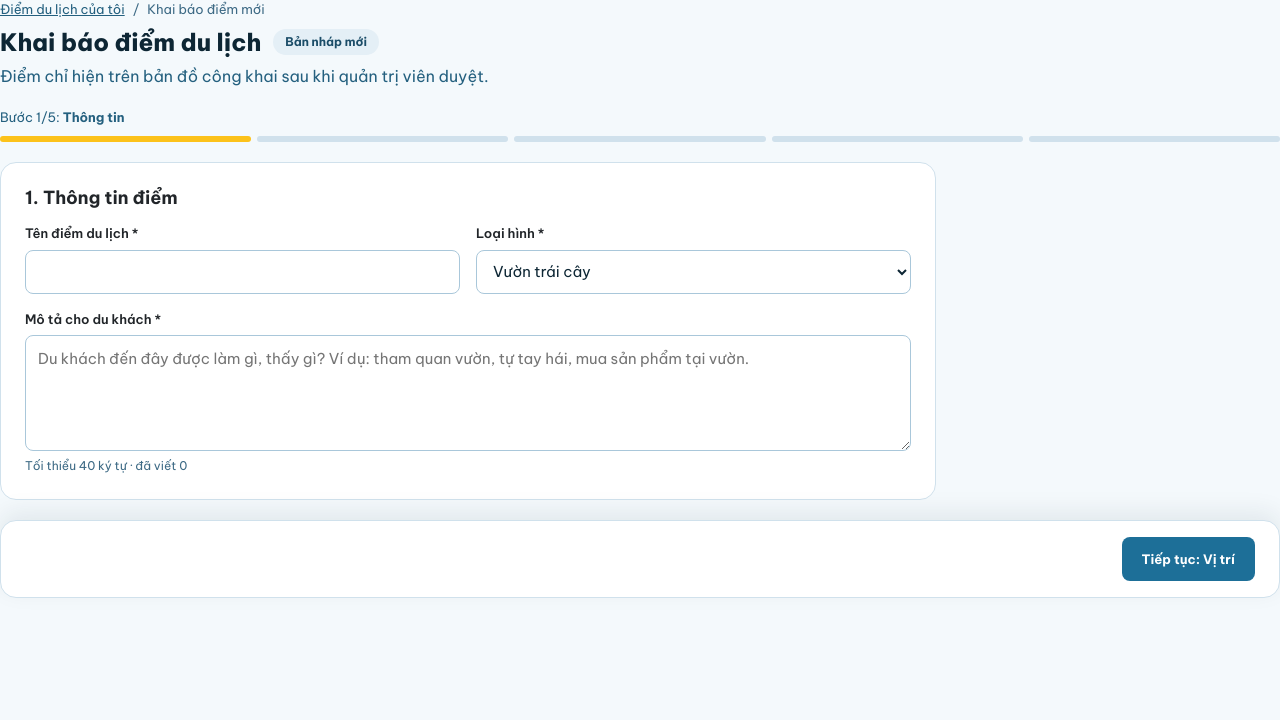
Test: SubjectLocationEditorView › wizard buoc 1: ten trong thi bao loi, danh dau o ten va khong sang buoc 2; co ten thi Tiep tuc mot lan sang buoc 2 (C14)
Click the button "Tiếp tục: Vị trí" at coordinates (1188, 559), box 1122,537 -> 1255,581
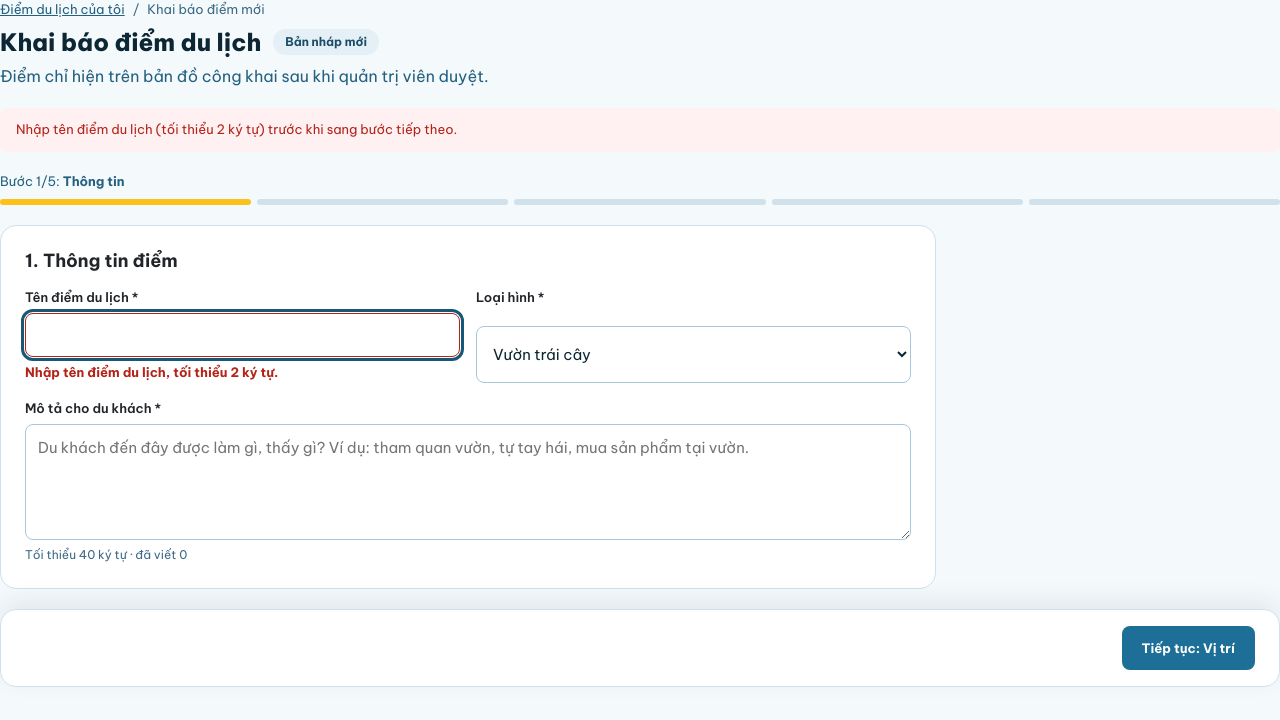
expect the text "Bước 1/5" is shown: met, box 0,173 -> 63,189
expect the message "Nhập tên điểm du lịch (tối thiểu 2 ký tự) trước khi sang bước tiếp theo." is shown: met, box 0,108 -> 1279,152
Type "Vườn dâu Langbiang Demo" into the field labelled "Tên điểm du lịch * Nhập tên điểm du lịch, tối thiểu 2 ký tự." at coordinates (242, 335), box 25,313 -> 460,357
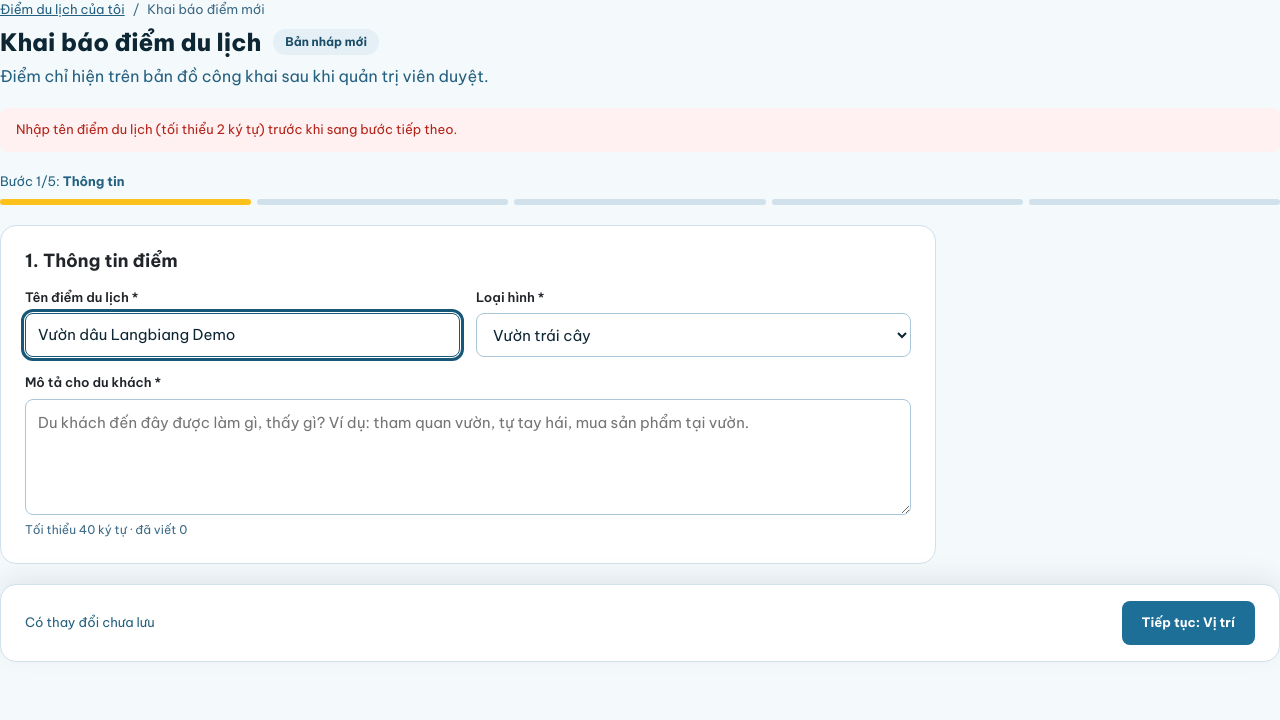
expect the field labelled "Tên điểm du lịch *" does not have attribute aria-invalid: met, box 25,313 -> 460,357
Click the button "Tiếp tục: Vị trí" at coordinates (1188, 623), box 1122,601 -> 1255,645
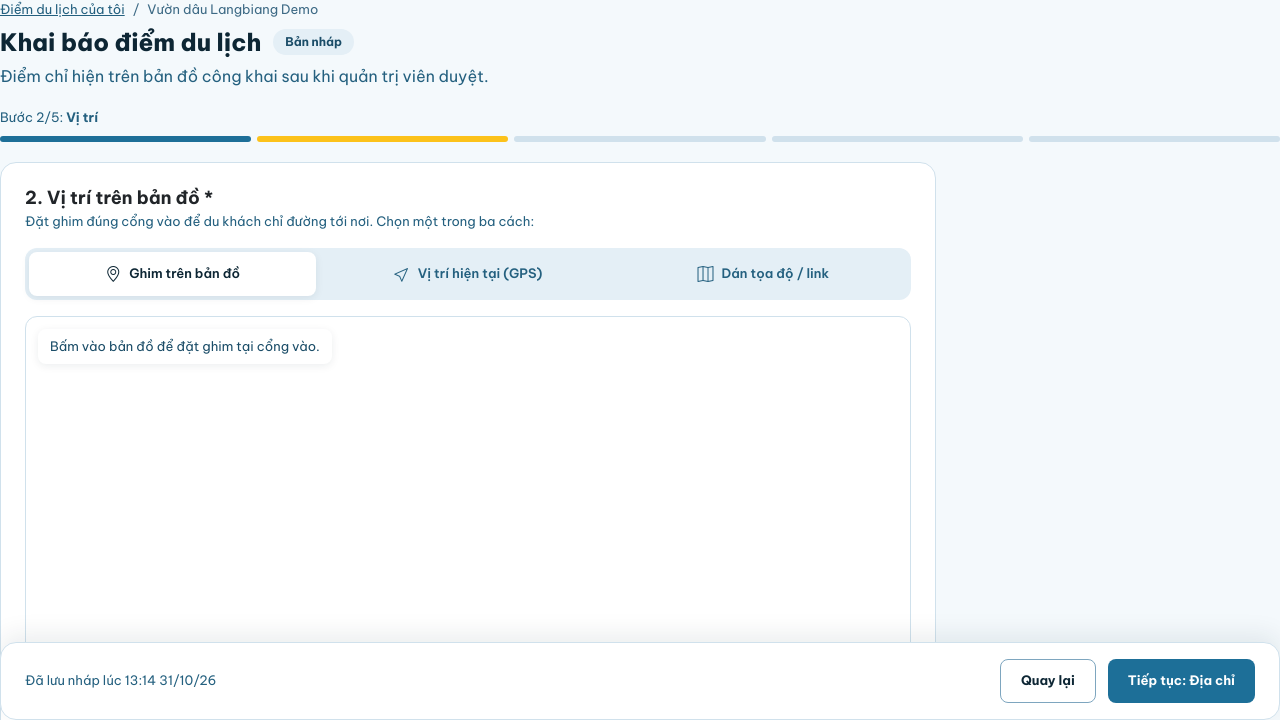
expect the text "Bước 2/5" is shown: met, box 0,109 -> 66,125
